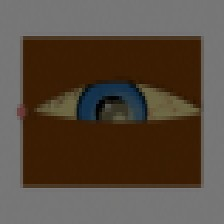corneal_ulcer: (86, 96, 148, 145)
